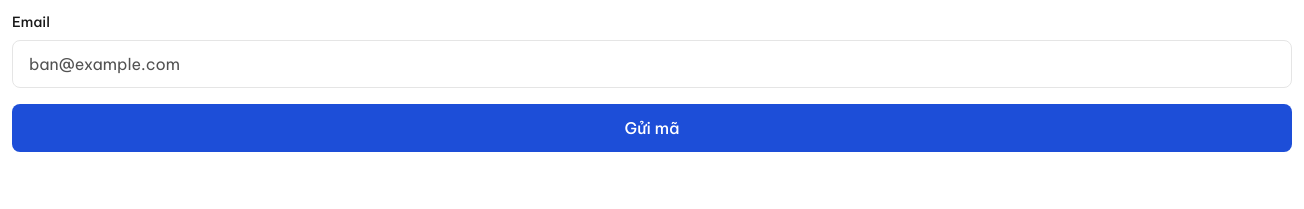
OtpSignInForm › báo lỗi email không hợp lệ mà không gửi yêu cầu
Type "khong-phai-email" into the field labelled "Email". click: coordinates (652, 64)
box: left=12, top=40, right=1292, bottom=88
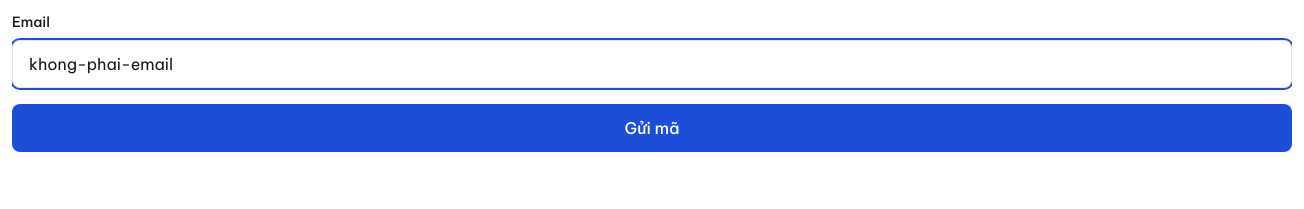
Click the button "Gửi mã". click: coordinates (652, 128)
box: left=12, top=104, right=1292, bottom=152
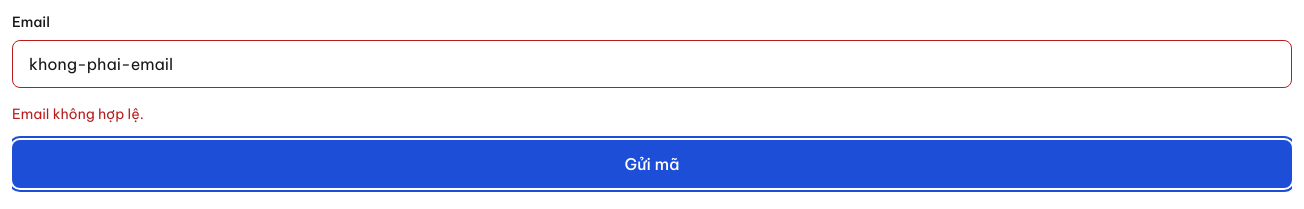
Now the message reads "Email không hợp lệ.", box left=12, top=105, right=144, bottom=123
